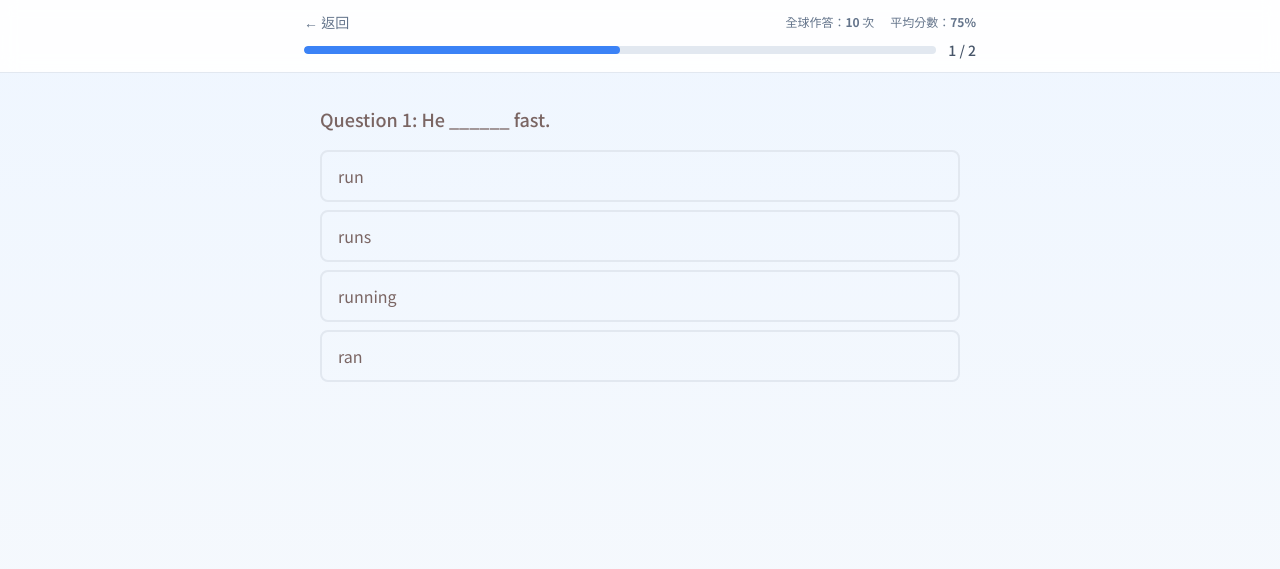
Test case: Quiz Flow Integration › completes a full quiz flow: answer → explanation → next → result
Check: the text "Question 1: He ______ fast." is shown, box [320,106,550,132]
What coordinates should you click on to do the following:
click the button "runs"
I would click on:
 (355, 236)
Its box is [320,210,960,262].
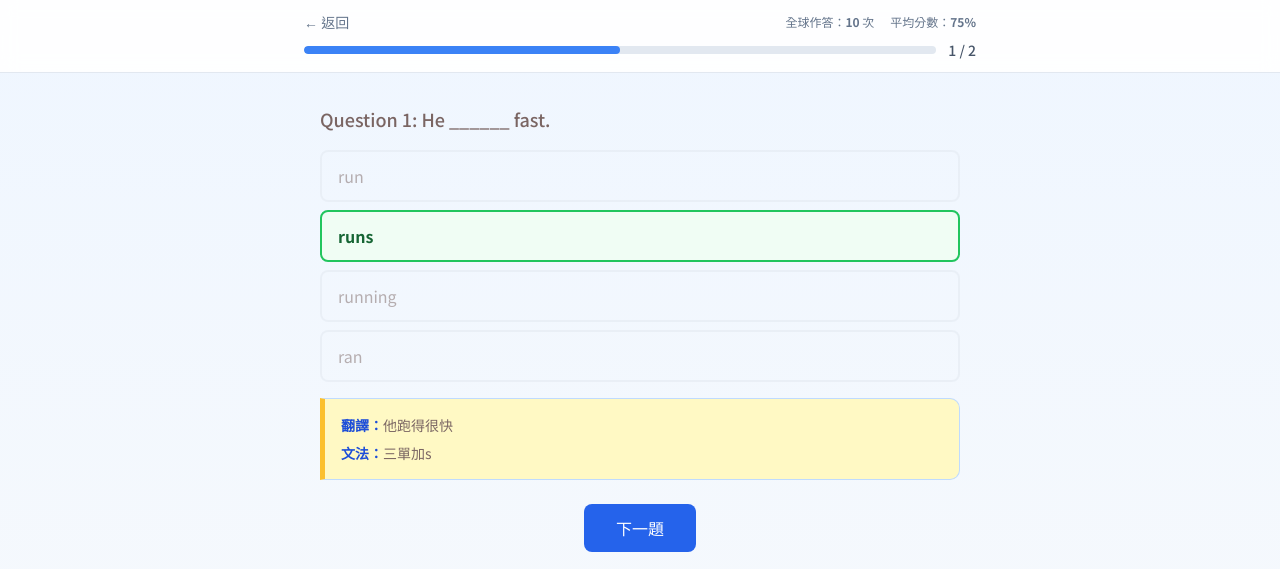
Check: the text "他跑得很快" is shown, box [383,415,453,435]
What coordinates should you click on to do the following:
click the button "下一題"
I would click on:
 (640, 528)
Its box is [584,504,696,552].
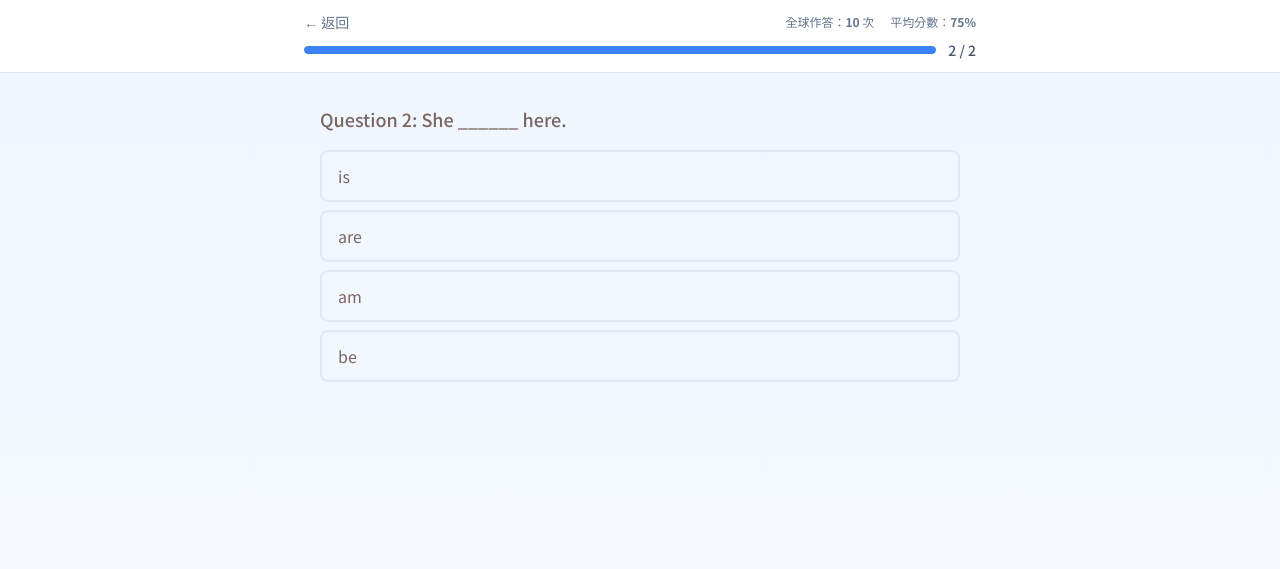
Check: the text "Question 2: She ______ here." is shown, box [320,106,566,132]
What coordinates should you click on to do the following:
click the button "are"
I would click on:
 (350, 236)
Its box is [320,210,960,262].
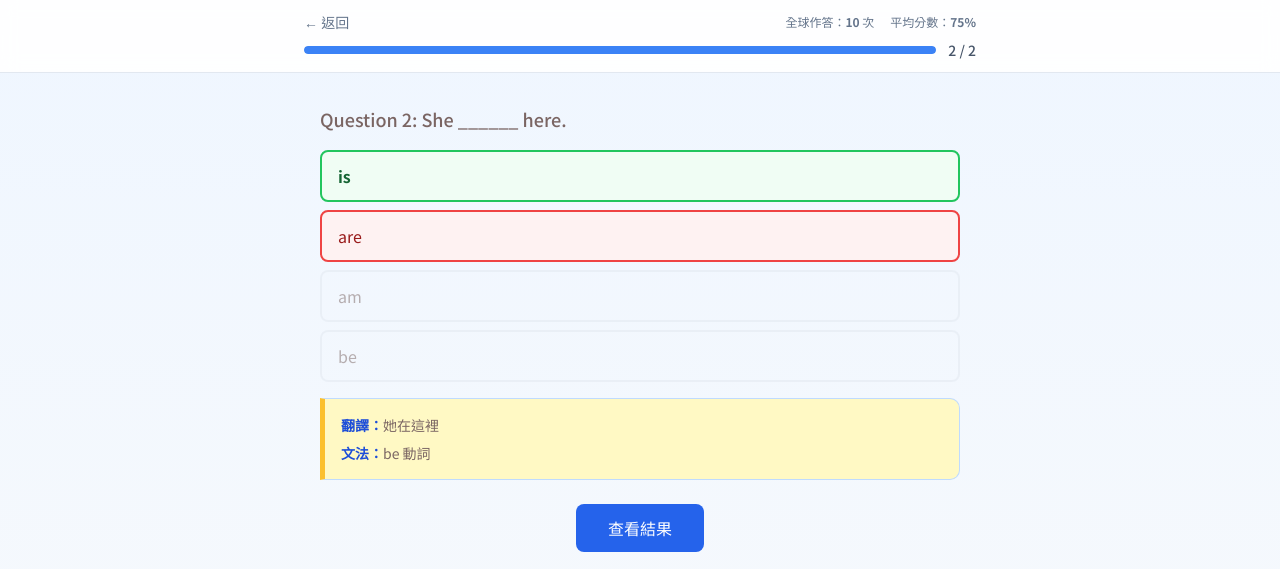
Check: the text "她在這裡" is shown, box [383,415,439,435]
What coordinates should you click on to do the following:
click the button "查看結果"
I would click on:
 (640, 528)
Its box is [576,504,704,552].
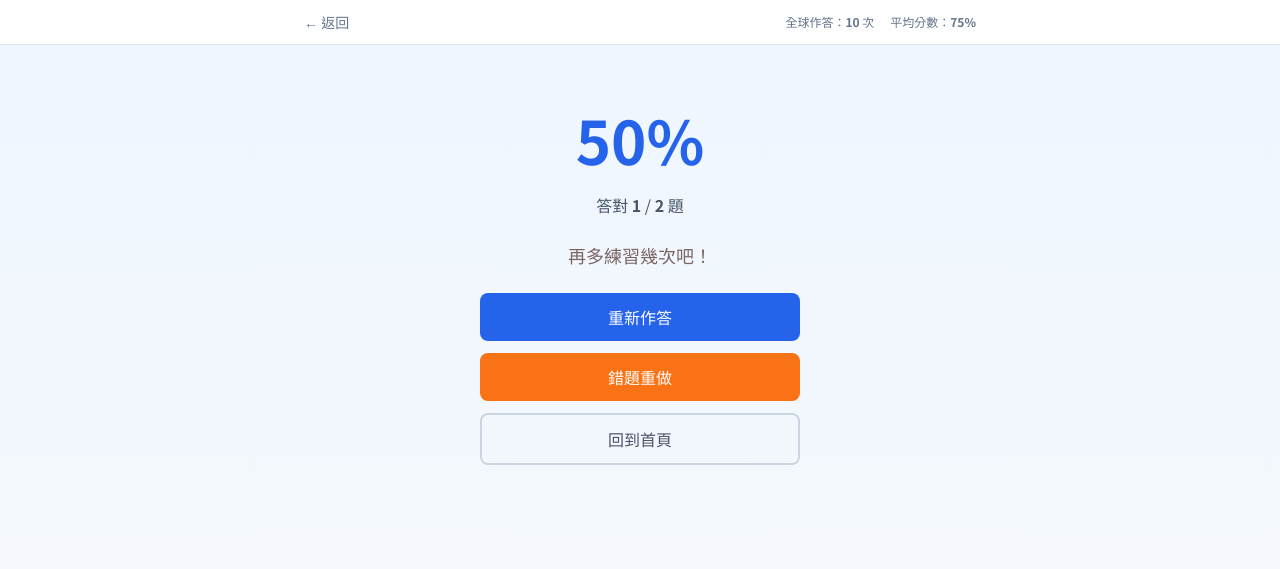
Check: the text "50%" is shown, box [576,109,704,169]
Check: the button "重新作答" is shown, box [480,293,800,341]
Check: the button "錯題重做" is shown, box [480,353,800,401]
